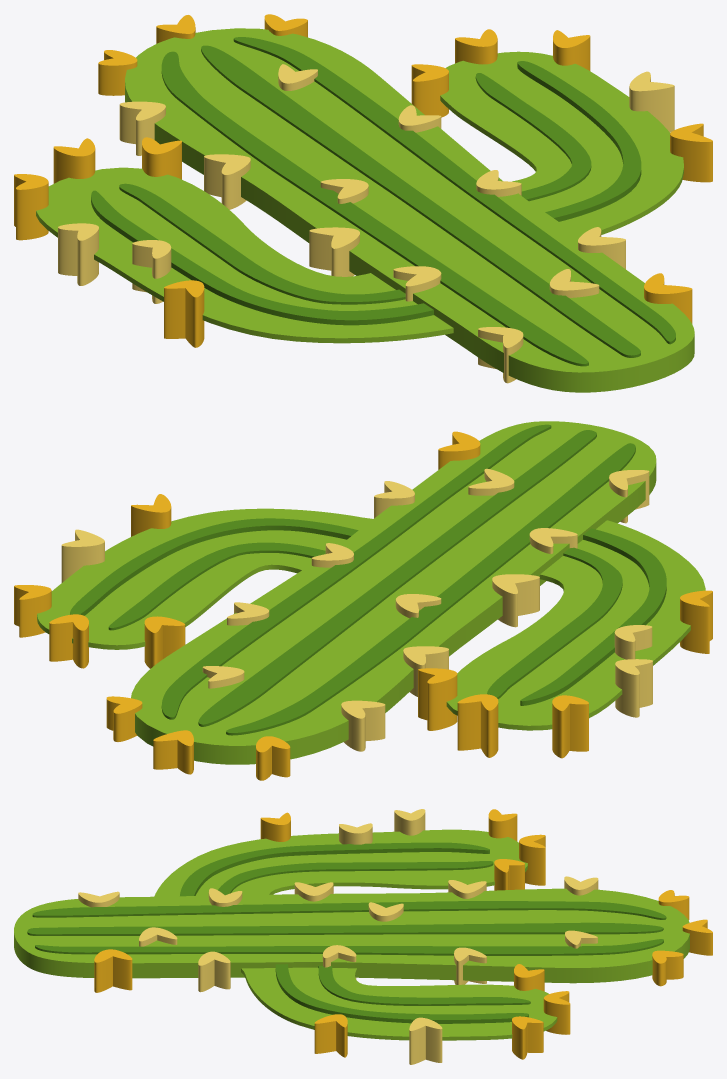
The model's file is emoji_u1f335.glb.
3 renders of one model, top to bottom at view 1: azimuth 30°, elevation 25°; view 2: azimuth 150°, elevation 25°; view 3: azimuth 270°, elevation 25°, orthographic. The views are drawn at different scales.
Visible parts, largest first — view 1: emoji_u1f335; view 2: emoji_u1f335; view 3: emoji_u1f335.
Boxes of the visible parts, left/top/right/bottom form: emoji_u1f335: left=14, top=14, right=712, bottom=392; emoji_u1f335: left=14, top=421, right=712, bottom=780; emoji_u1f335: left=14, top=809, right=712, bottom=1064.
Size of the model in its own units: 0.0253 by 0.002 by 0.0336.
